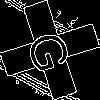G: (25, 25, 81, 77)
